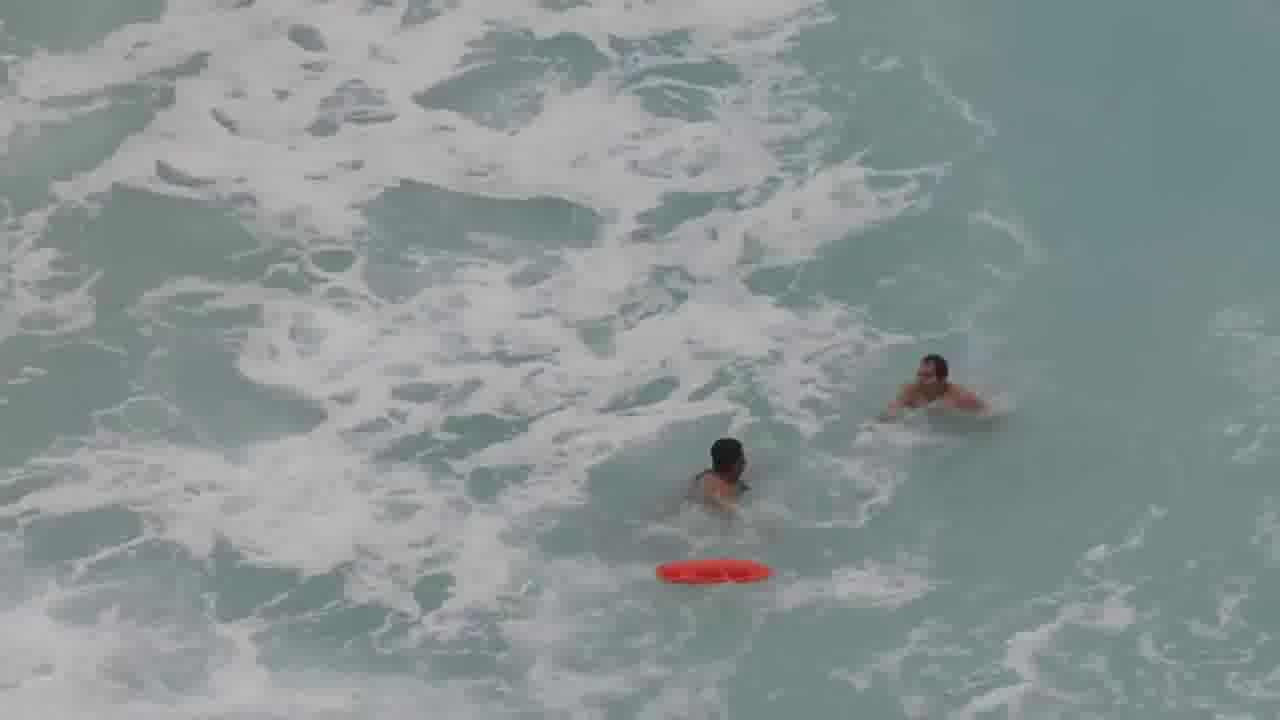swimmer: (901, 340, 977, 427), (695, 430, 767, 511)
